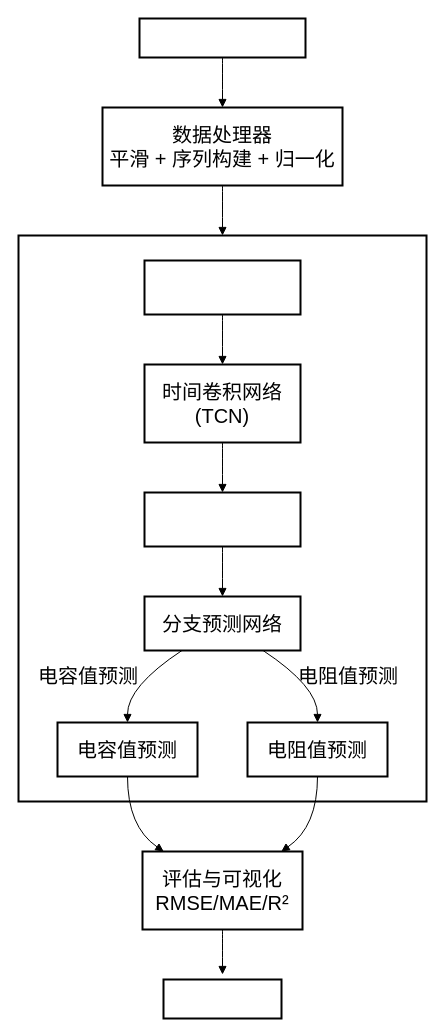
The diagram is 444 pixels wide and 1036 high, and some of its shapes have lost their labels. The centre of each missing label's shape, as x and y in pixels:
"原始电容器数据" belongs at point 222,37.
"特征融合模块" belongs at point 222,287.
"自注意力机制" belongs at point 222,519.
"预测结果" belongs at point 222,998.
